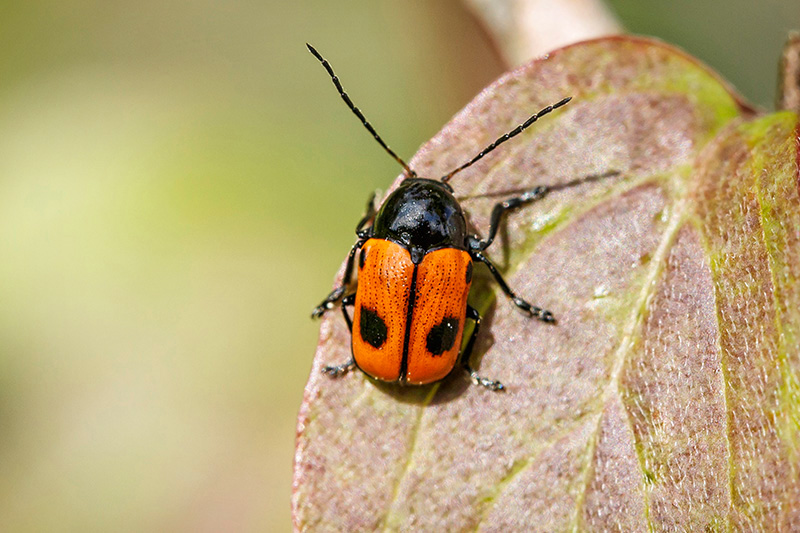Cryptocephalus_bipunctatus: (296, 34, 576, 419)
